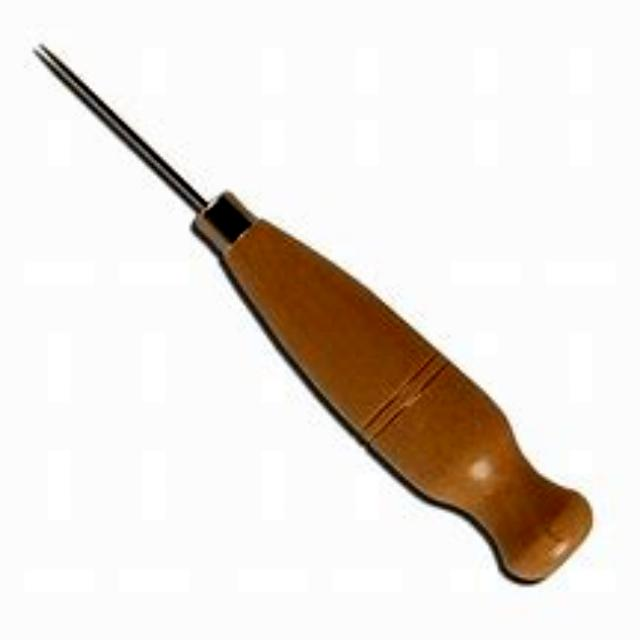ice pick: (39, 30, 607, 590)
